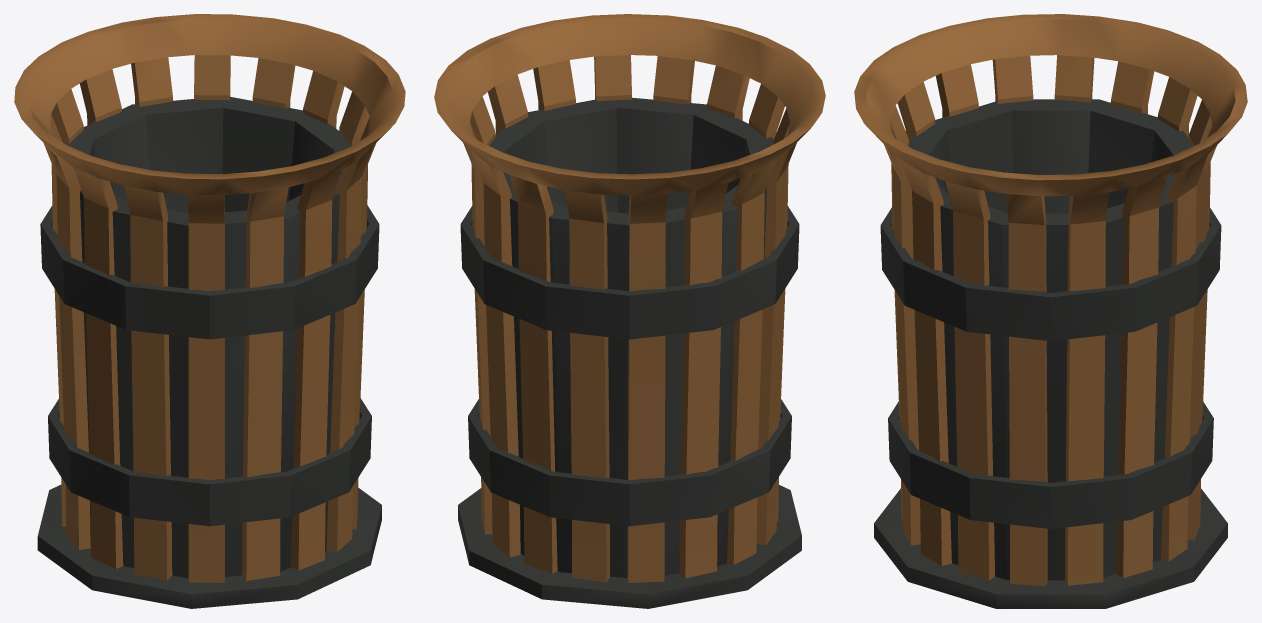
Rendered from thungrac2.fbx.
3 views of the same model, side by side, from view 1: azimuth 30°, elevation 25°; view 2: azimuth 150°, elevation 25°; view 3: azimuth 270°, elevation 25° (orthographic).
Parts seen in each view (by area): view 1: thungrac2; view 2: thungrac2; view 3: thungrac2.
Boxes of the visible parts, x1=… form: thungrac2: x1=14, y1=14, x2=405, y2=608; thungrac2: x1=434, y1=14, x2=825, y2=608; thungrac2: x1=854, y1=14, x2=1247, y2=608.
Bounding box in the file's own units: 64.52 × 79.75 × 64.53.
